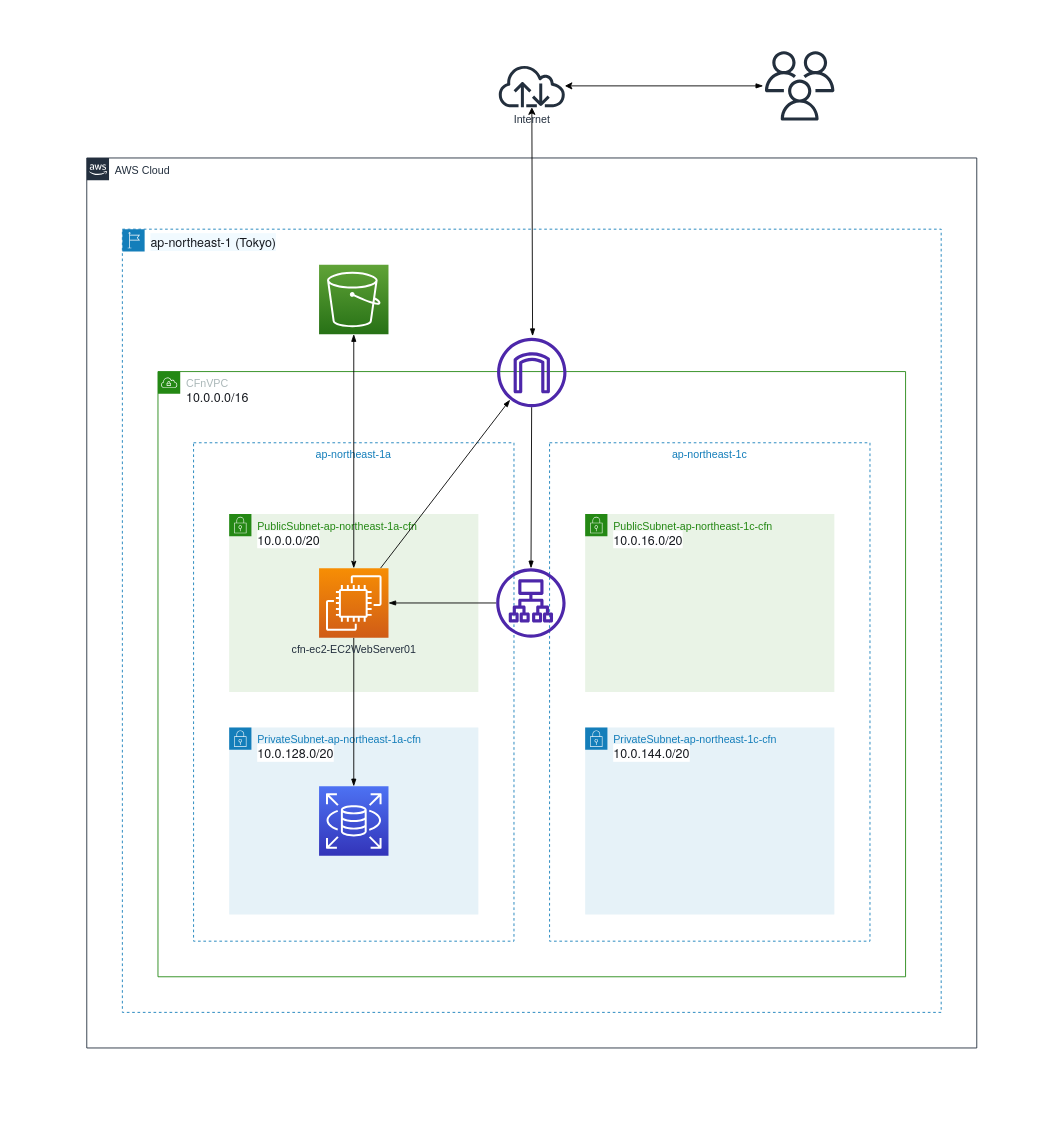
The diagram is 1055 pixels wide and 1135 high, and some of its shapes have lost their labels. Each missing label, with the centre of its shape:
cfn-elb-ALB: pixel 530 602
cfn-rds: pixel 353 820
CFnInternetGateway-cfn: pixel 531 372
raisetech-cfn-s3: pixel 353 299
Users: pixel 799 85
